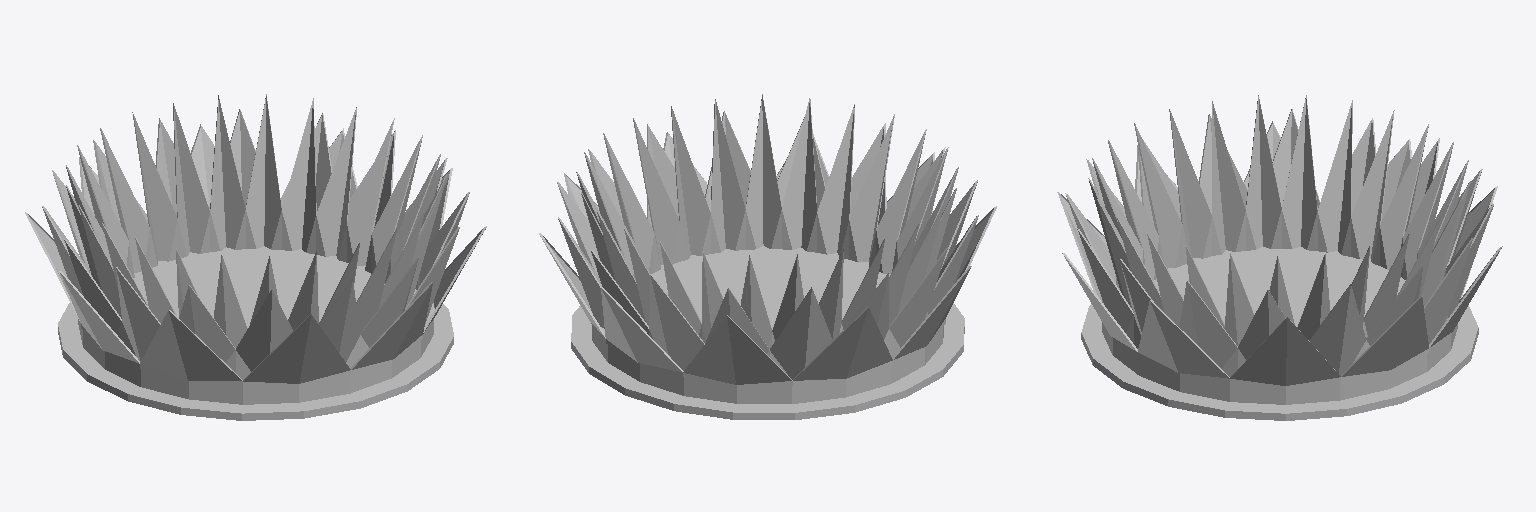
The model's file is portal_000008.obj.
The picture shows the model from 3 angles: view 1: azimuth 30°, elevation 25°; view 2: azimuth 150°, elevation 25°; view 3: azimuth 270°, elevation 25°; orthographic projection.
Parts seen in each view (by area): view 1: Cylinder.001, pCylinder1, Cylinder; view 2: Cylinder.001, pCylinder1, Cylinder; view 3: Cylinder.001, pCylinder1, Cylinder.
Boxes of the visible parts, x1,y1,x2,y2 form: Cylinder.001: [66, 94, 447, 347]; pCylinder1: [25, 124, 486, 420]; Cylinder: [42, 109, 469, 379]; Cylinder.001: [576, 94, 958, 348]; pCylinder1: [539, 132, 996, 419]; Cylinder: [557, 111, 978, 379]; Cylinder.001: [1088, 95, 1470, 345]; pCylinder1: [1057, 121, 1502, 420]; Cylinder: [1065, 109, 1493, 376].
Bounding box in the file's own units: 7.44 × 2.9 × 7.15.